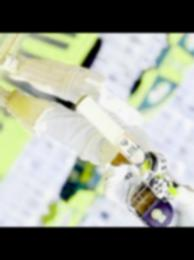batsman: (0, 63, 194, 227)
